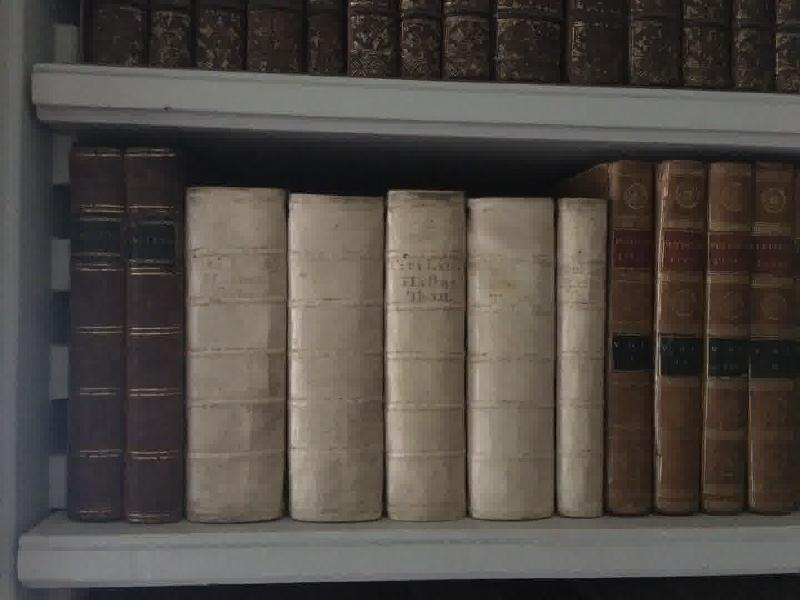Kk4-1_2: (62, 139, 196, 529)
Kk4-3_7: (179, 178, 614, 537)
Kk4-8_13: (601, 158, 800, 522)
